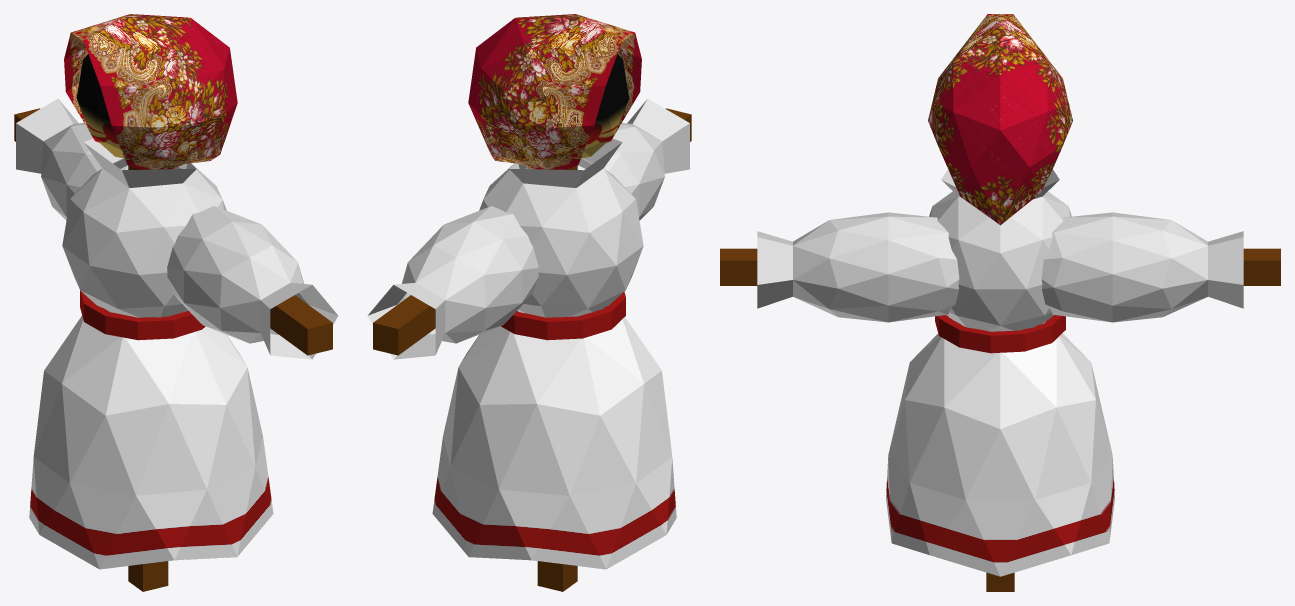
Rendered from chucelo.fbx.
3 renders of one model, left to right at view 1: azimuth 30°, elevation 25°; view 2: azimuth 150°, elevation 25°; view 3: azimuth 270°, elevation 25°, orthographic. The views are drawn at different scales.
Visible parts, largest first — view 1: Icosphere.003, Icosphere.005, Icosphere, Icosphere.002, Icosphere.001, Cube.002, Cube.001, Icosphere.004, Cube; view 2: Icosphere.003, Icosphere.005, Icosphere, Icosphere.001, Icosphere.002, Cube.002, Cube.001, Icosphere.004, Cube; view 3: Icosphere.003, Icosphere.005, Icosphere.001, Icosphere.002, Icosphere, Cube.002, Cube.001.
Part boxes in pixels (bbox=[...]): Icosphere.003: bbox=[29, 315, 273, 569]; Icosphere.005: bbox=[64, 14, 237, 169]; Icosphere: bbox=[62, 138, 226, 317]; Icosphere.002: bbox=[167, 206, 338, 359]; Icosphere.001: bbox=[16, 99, 128, 220]; Cube.002: bbox=[80, 290, 205, 340]; Cube.001: bbox=[14, 108, 332, 355]; Icosphere.004: bbox=[76, 54, 124, 158]; Cube: bbox=[128, 165, 168, 591]; Icosphere.003: bbox=[432, 311, 676, 569]; Icosphere.005: bbox=[468, 14, 641, 169]; Icosphere: bbox=[479, 138, 643, 317]; Icosphere.001: bbox=[367, 206, 538, 359]; Icosphere.002: bbox=[577, 99, 689, 220]; Cube.002: bbox=[501, 292, 625, 340]; Cube.001: bbox=[373, 108, 691, 355]; Icosphere.004: bbox=[581, 54, 629, 158]; Cube: bbox=[537, 165, 577, 591]; Icosphere.003: bbox=[886, 322, 1114, 576]; Icosphere.005: bbox=[928, 14, 1072, 225]; Icosphere.001: bbox=[1041, 212, 1243, 322]; Icosphere.002: bbox=[757, 212, 959, 322]; Icosphere: bbox=[929, 169, 1071, 331]; Cube.002: bbox=[935, 315, 1065, 353]; Cube.001: bbox=[720, 248, 1280, 285].
Size of the model in its own units: 838 by 2154 by 2000.
